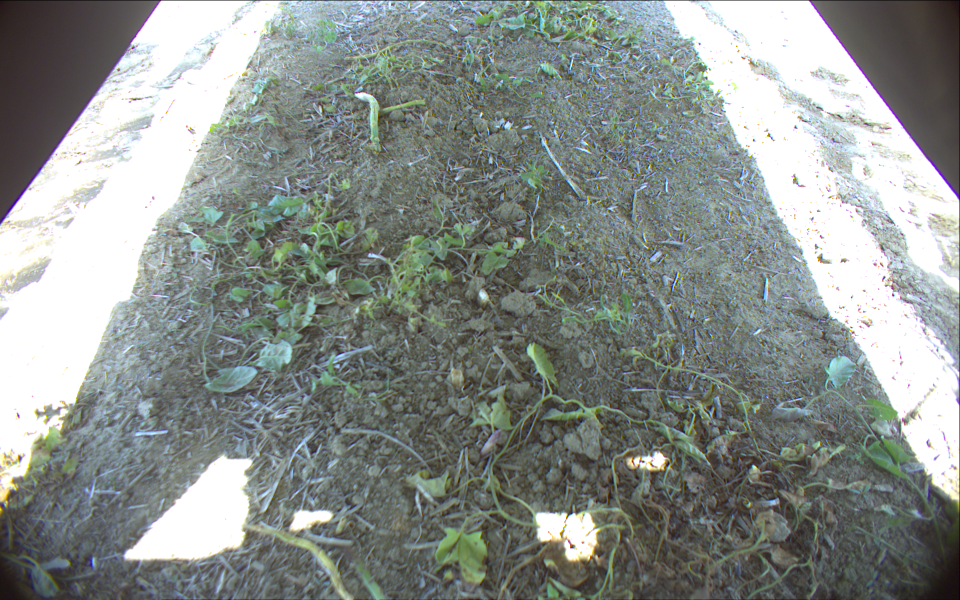aspa: (241, 522, 354, 600), (341, 38, 448, 63), (352, 92, 382, 152), (356, 562, 390, 600), (381, 101, 429, 117)
